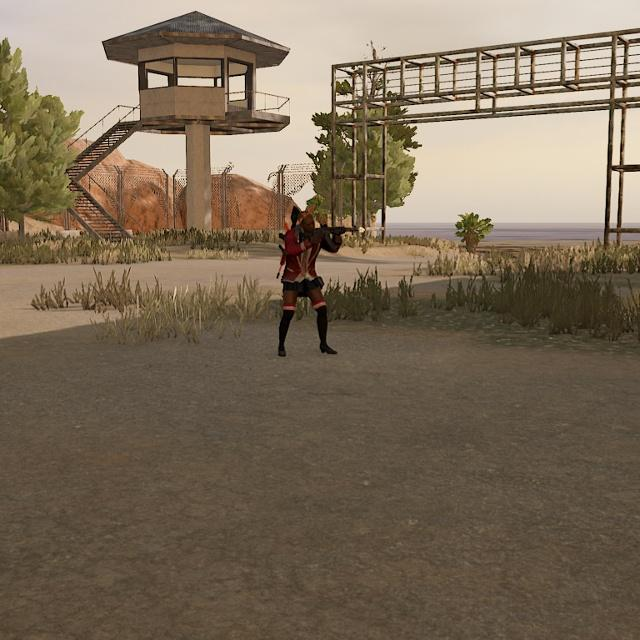head: (299, 211, 317, 233)
people: (277, 211, 337, 356)
